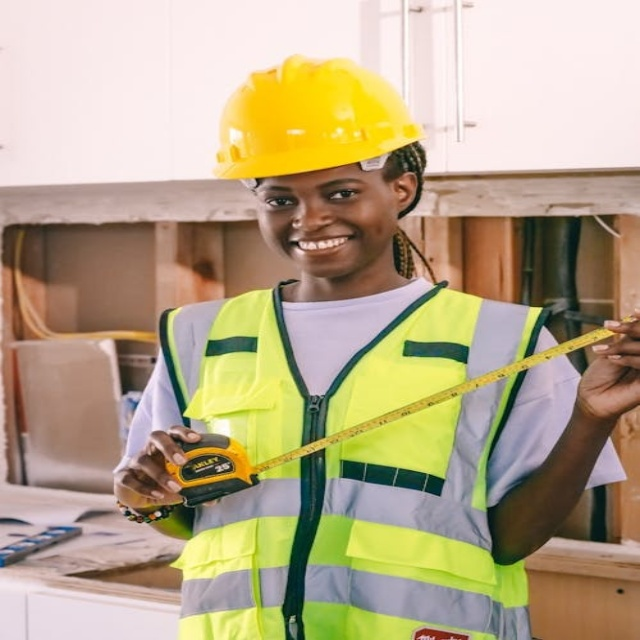Sin_gafas: (253, 174, 374, 215)
Sin_guantes: (112, 423, 216, 515), (570, 306, 639, 419)
Sin_mascara: (282, 227, 361, 265)
